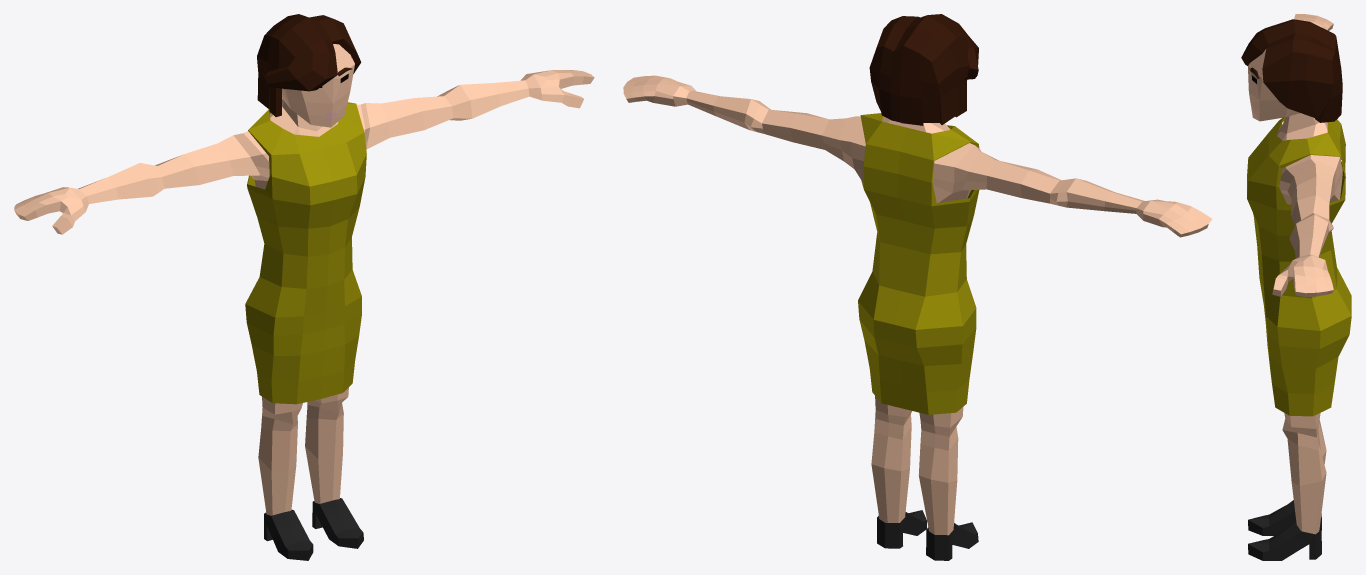
Rendered from NPC_W_Amarillento_Escenario2_PeloCorto.fbx.
3 renders of one model, left to right at view 1: azimuth 30°, elevation 25°; view 2: azimuth 150°, elevation 25°; view 3: azimuth 270°, elevation 25°, orthographic.
Parts seen in each view (by area): view 1: Vestido; view 2: Vestido; view 3: Vestido.
Boxes of the visible parts, x1=… form: Vestido: x1=14, y1=14, x2=594, y2=560; Vestido: x1=623, y1=14, x2=1212, y2=560; Vestido: x1=1241, y1=14, x2=1351, y2=560.
Bounding box in the file's own units: 215 × 187 × 35.99.
